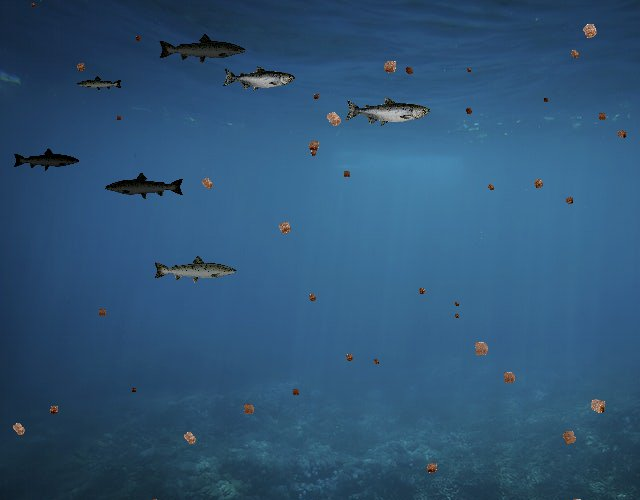Fish: (157, 33, 247, 65), (152, 254, 238, 285), (344, 96, 430, 127), (105, 171, 186, 200), (223, 66, 296, 92), (13, 148, 81, 172), (77, 75, 124, 92)
Pellet: (318, 104, 348, 134), (467, 335, 495, 363), (497, 366, 521, 390), (195, 172, 219, 196), (528, 173, 548, 193), (307, 148, 320, 161), (452, 310, 462, 320)
